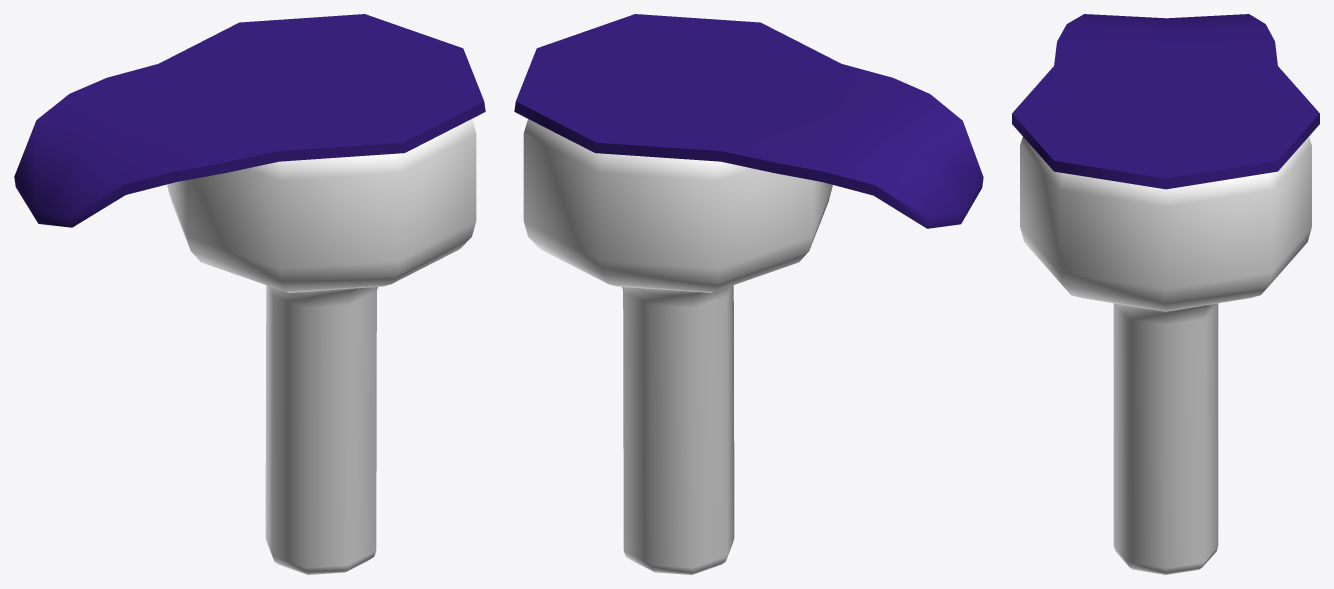
File: SM_Aguja.fbx
3 views of the same model, side by side, from view 1: azimuth 30°, elevation 25°; view 2: azimuth 150°, elevation 25°; view 3: azimuth 270°, elevation 25° (orthographic). The views are drawn at different scales.
Visible parts, largest first — view 1: Aguja.004, Aguja.002; view 2: Aguja.004, Aguja.002; view 3: Aguja.004, Aguja.002.
Part boxes in pixels (box(x1,y1,x2,y2)): Aguja.004: box(167, 119, 476, 574); Aguja.002: box(14, 14, 485, 227); Aguja.004: box(523, 119, 832, 574); Aguja.002: box(514, 14, 983, 228); Aguja.004: box(1020, 137, 1311, 574); Aguja.002: box(1012, 14, 1319, 189).
Bounding box in the file's own units: 1.94 × 2.05 × 1.29.
